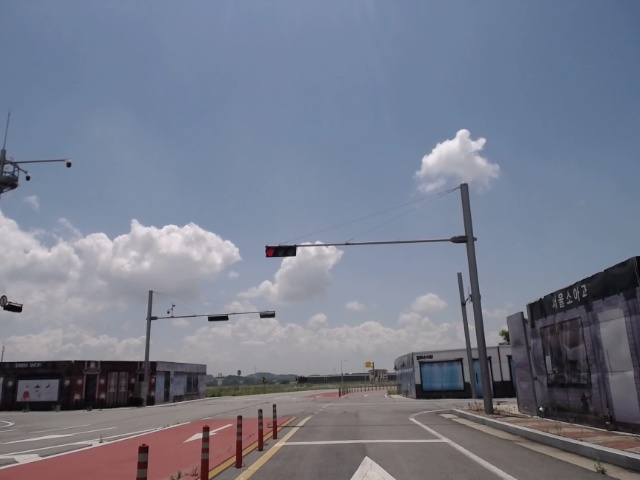red_3: (264, 243, 297, 258)
